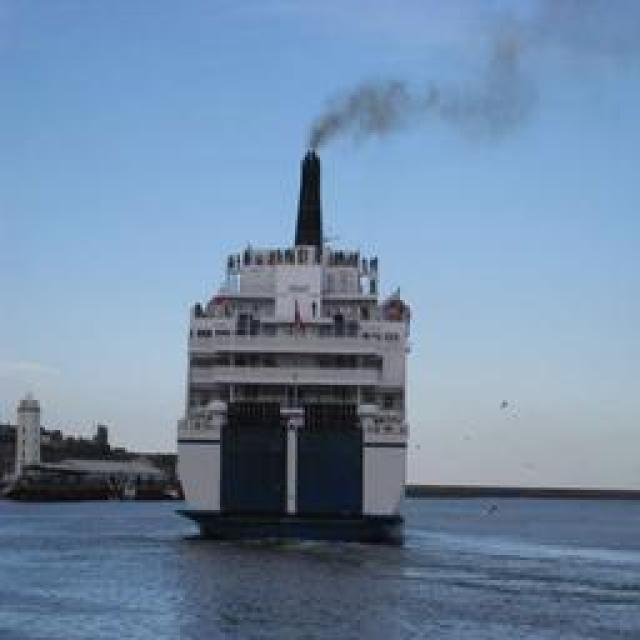CIV_Ship: (170, 148, 418, 532)
